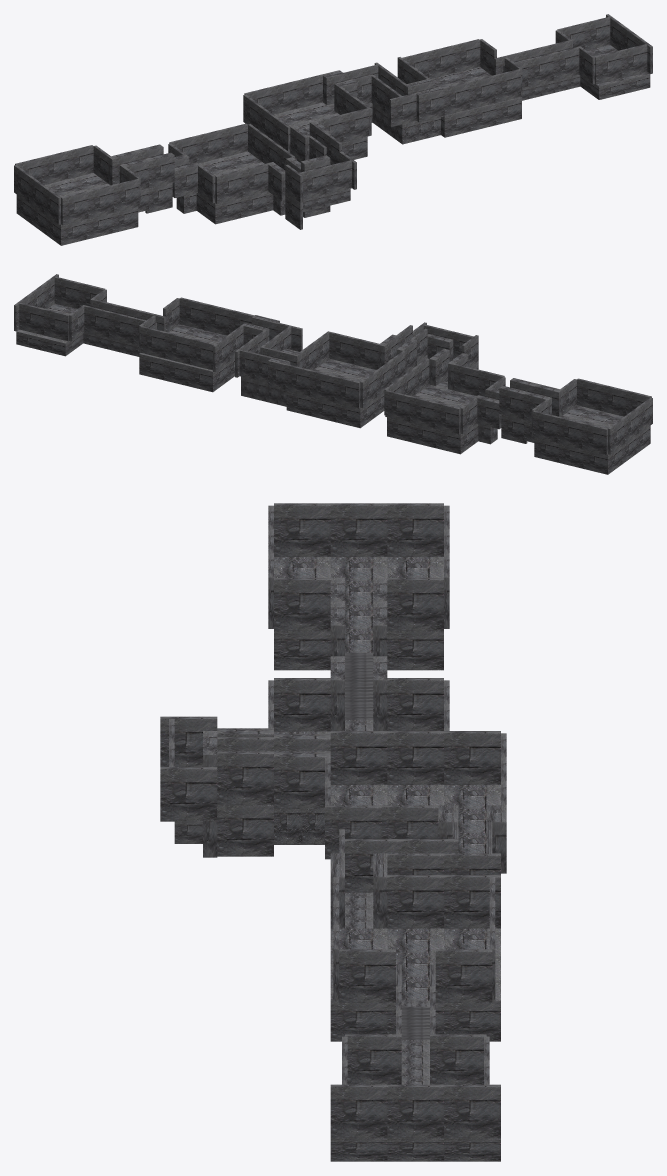
File: RPG.fbx
3 renders of one model, top to bottom at view 1: azimuth 30°, elevation 25°; view 2: azimuth 150°, elevation 25°; view 3: azimuth 270°, elevation 25°, orthographic. The views are drawn at different scales.
Parts seen in each view (by area): view 1: Box586, Box717, Box533, Box707, Box538, Box589, Box729, Box413, Box414, Box423, Box429, Box639 (+67 smaller); view 2: Box363, Box718, Box531, Box337, Box706, Box543, Box525, Box423, Box728, Box428, Box638, Box413 (+75 smaller); view 3: Box412, Box322, Box411, Box534, Box725, Box726, Box430, Box524, Box597, Box722, Box426, Box431 (+40 smaller).
Boxes of the visible parts, bbox=[...] form: Box586: bbox=[416, 86, 444, 122]; Box717: bbox=[46, 216, 86, 245]; Box533: bbox=[200, 195, 240, 224]; Box707: bbox=[145, 152, 174, 188]; Box538: bbox=[215, 170, 242, 203]; Box589: bbox=[389, 93, 416, 126]; Box729: bbox=[61, 191, 88, 225]; Box413: bbox=[620, 44, 647, 77]; Box414: bbox=[595, 50, 621, 84]; Box423: bbox=[453, 39, 480, 72]; Box429: bbox=[468, 75, 495, 109]; Box639: bbox=[172, 162, 199, 197]; Box363: bbox=[188, 364, 227, 392]; Box718: bbox=[583, 446, 622, 474]; Box531: bbox=[436, 426, 474, 454]; Box337: bbox=[336, 400, 374, 428]; Box706: bbox=[499, 385, 526, 419]; Box543: bbox=[434, 402, 460, 434]; Box525: bbox=[334, 376, 360, 408]; Box423: bbox=[140, 326, 166, 358]; Box728: bbox=[582, 422, 607, 455]; Box428: bbox=[179, 297, 205, 329]; Box638: bbox=[475, 395, 501, 429]; Box413: bbox=[54, 277, 80, 308]; Box412: bbox=[330, 1084, 387, 1138]; Box322: bbox=[444, 1084, 500, 1138]; Box411: bbox=[387, 1084, 443, 1138]; Box534: bbox=[217, 751, 273, 805]; Box725: bbox=[387, 577, 443, 631]; Box726: bbox=[274, 577, 330, 631]; Box430: bbox=[435, 949, 492, 1002]; Box524: bbox=[330, 731, 387, 784]; Box597: bbox=[160, 767, 217, 820]; Box722: bbox=[330, 503, 387, 556]; Box426: bbox=[387, 875, 443, 928]; Box431: bbox=[339, 949, 395, 1002].
Size of the model in its own units: 23700 by 2400 by 6100.
